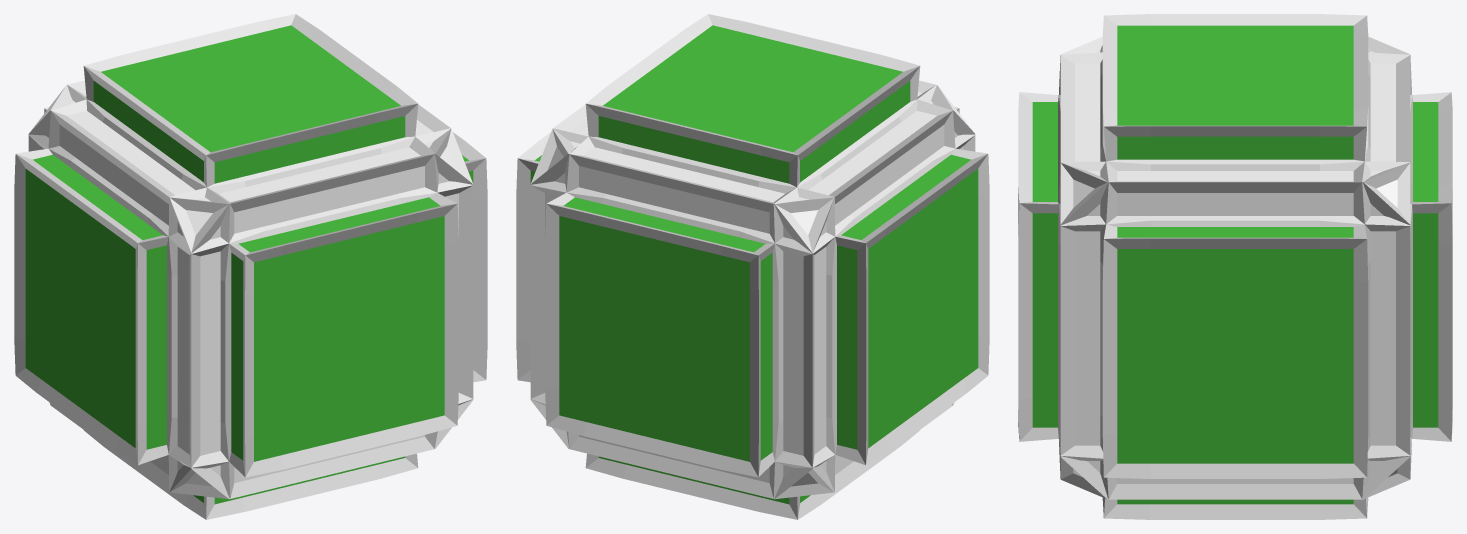
File: Dice - Copy.fbx
The picture shows the model from 3 angles, left to right: view 1: azimuth 30°, elevation 25°; view 2: azimuth 150°, elevation 25°; view 3: azimuth 270°, elevation 25°; orthographic projection. The views are drawn at different scales.
Visible parts, largest first — view 1: Cube.002, Cube.001; view 2: Cube.002, Cube.001; view 3: Cube.002, Cube.001.
Boxes of the visible parts, x1,y1,x2,y2 form: Cube.002: (25,25,473,504); Cube.001: (14,14,487,519); Cube.002: (530,25,978,504); Cube.001: (516,14,989,519); Cube.002: (1032,25,1438,504); Cube.001: (1018,14,1452,519).
Bounding box in the file's own units: 257 × 257 × 257.
2 materials, 1 textured.
